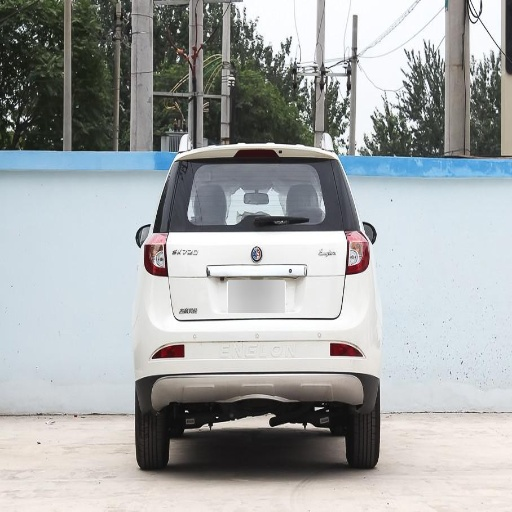back_bumper: (129, 273, 384, 411)
trunk: (147, 232, 347, 339)
